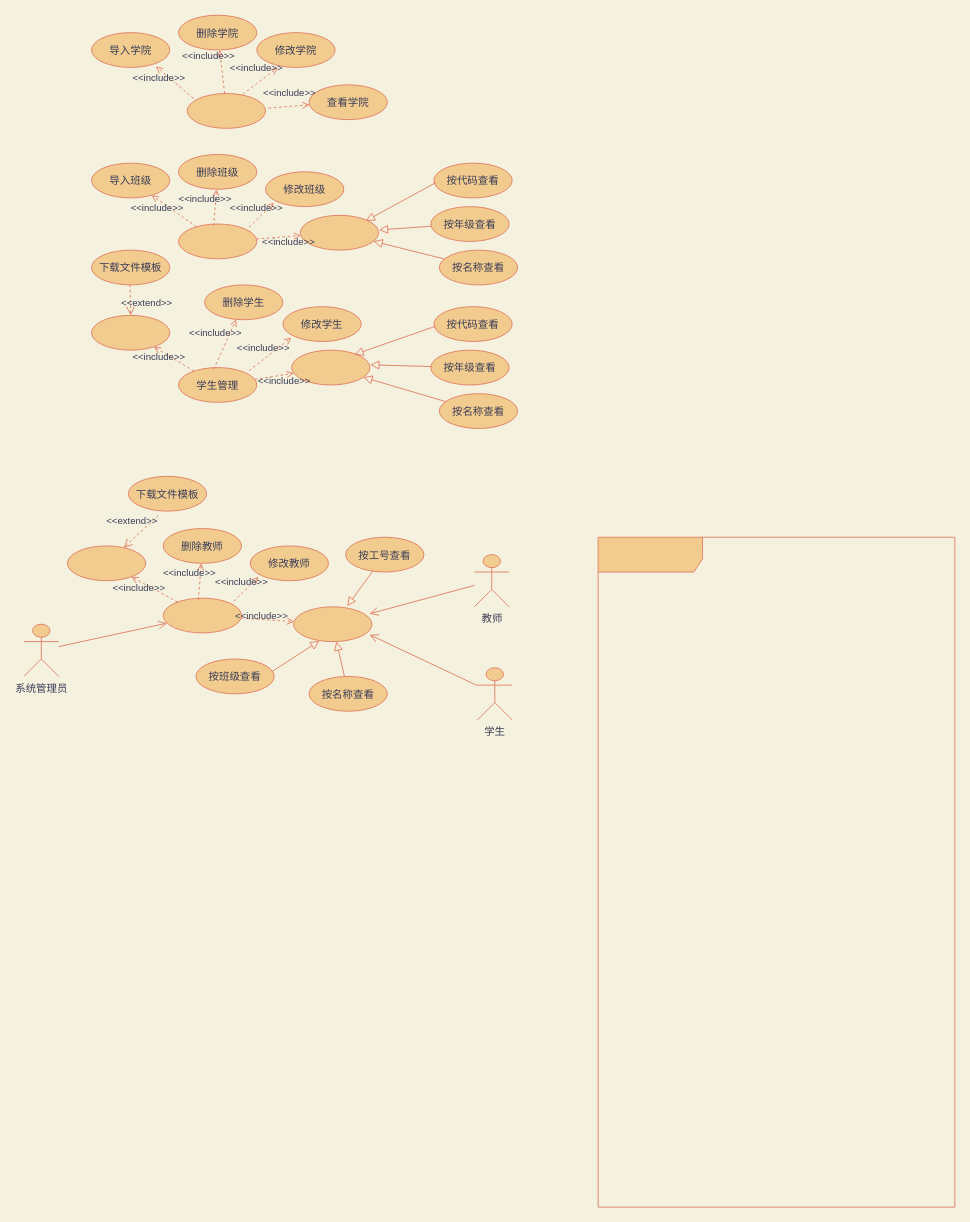
Image size: 970x1222. Some labels were removed from this diagram. Here are the shapes that lost their labels. From the top down, the centre of each, then its label:
[226,110]: 学院管理
[217,241]: 班级管理
[339,232]: 查看班级
[130,332]: 导入学生
[330,367]: 查看学生
[106,563]: 导入教师
[202,615]: 教师管理
[332,624]: 查看教师
[776,871]: 基础数据
